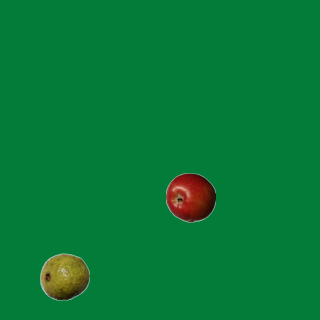Apple Braeburn: (165, 172, 215, 222)
Guava: (39, 251, 89, 301)
